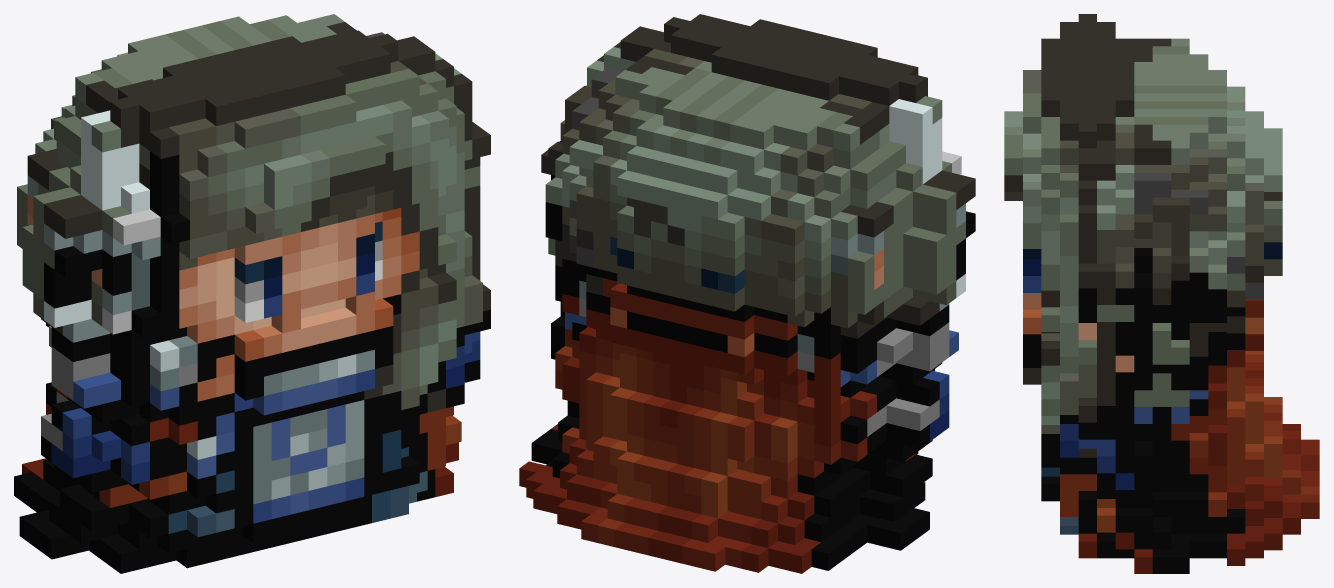
The model's file is Icon_111_01.obj.
3 renders of one model, left to right at view 1: azimuth 30°, elevation 25°; view 2: azimuth 150°, elevation 25°; view 3: azimuth 270°, elevation 25°, orthographic. The views are drawn at different scales.
Bounding box in the file's own units: 2.3 × 2.4 × 1.7.
